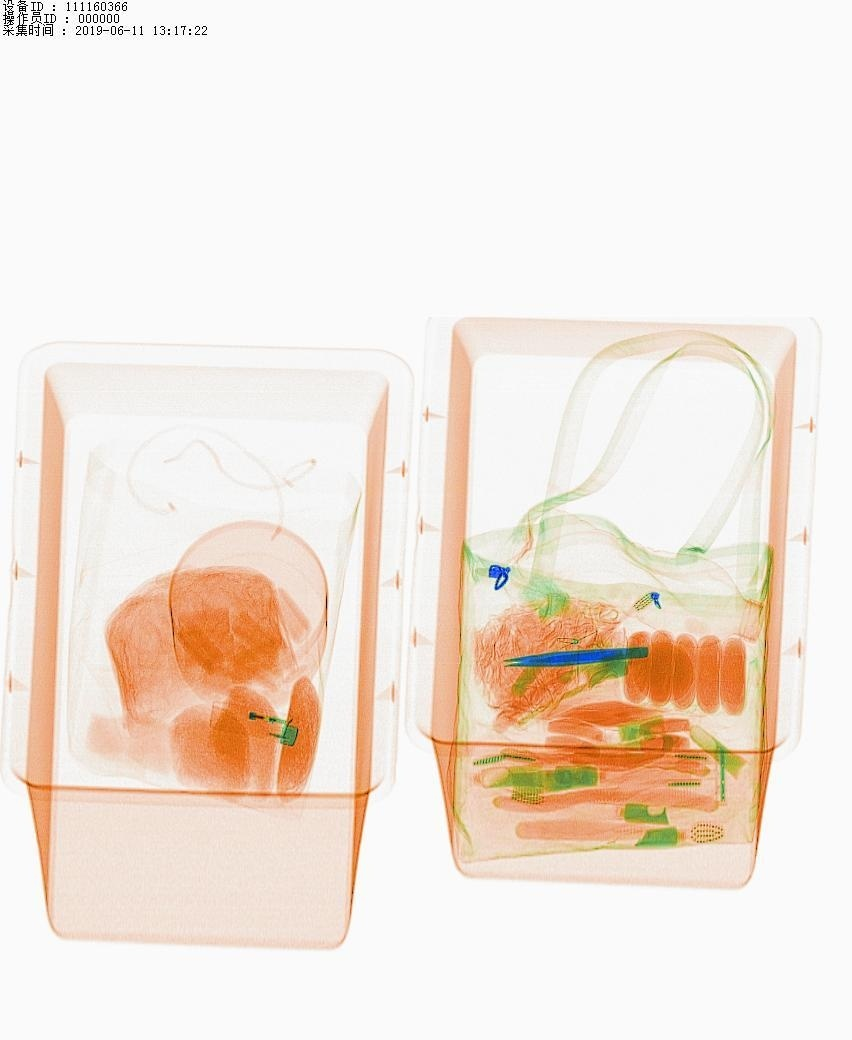NonmetallicFire: (190, 695, 317, 763)
